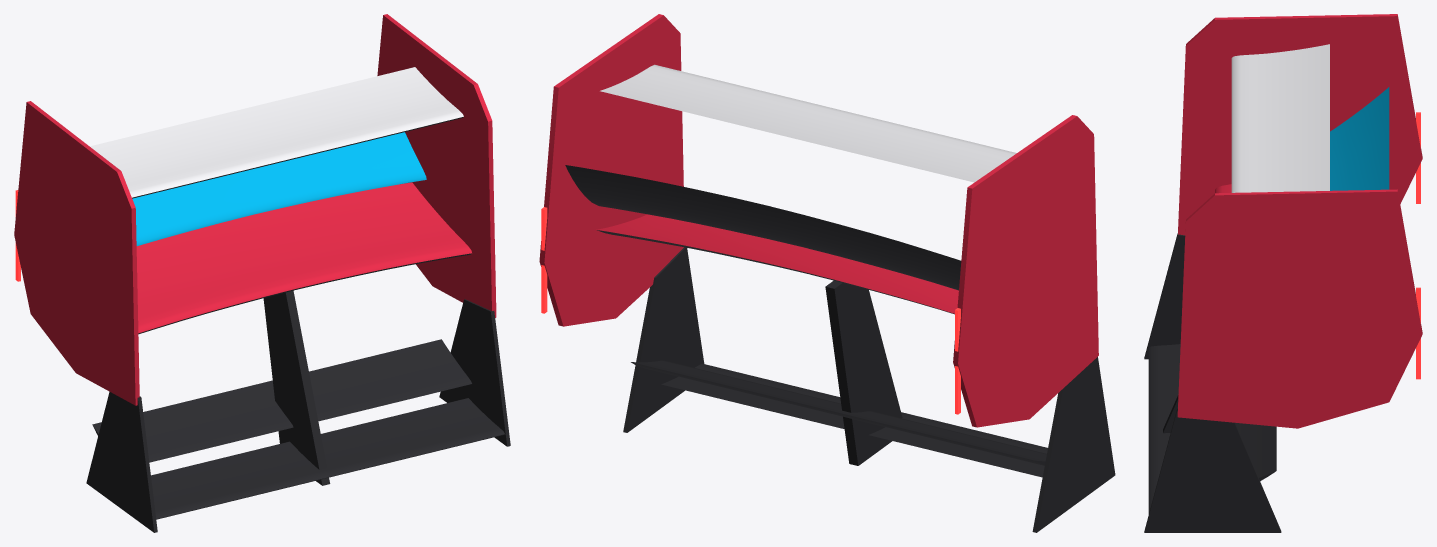
The model's file is twin.glb.
The picture shows the model from 3 angles, left to right: view 1: azimuth 30°, elevation 25°; view 2: azimuth 150°, elevation 25°; view 3: azimuth 270°, elevation 25°; orthographic projection. The views are drawn at different scales.
Parts seen in each view (by area): view 1: RearWing_twin, DRSFlap_twin; view 2: RearWing_twin, DRSFlap_twin; view 3: RearWing_twin, DRSFlap_twin.
Part boxes in pixels (left/top/right/bottom): RearWing_twin: left=14, top=14, right=510, bottom=532; DRSFlap_twin: left=132, top=132, right=426, bottom=245; RearWing_twin: left=539, top=14, right=1115, bottom=532; DRSFlap_twin: left=565, top=165, right=961, bottom=290; RearWing_twin: left=1144, top=14, right=1422, bottom=532; DRSFlap_twin: left=1330, top=87, right=1389, bottom=190.
Bounding box in the file's own units: 1.01 × 0.91 × 0.67.
